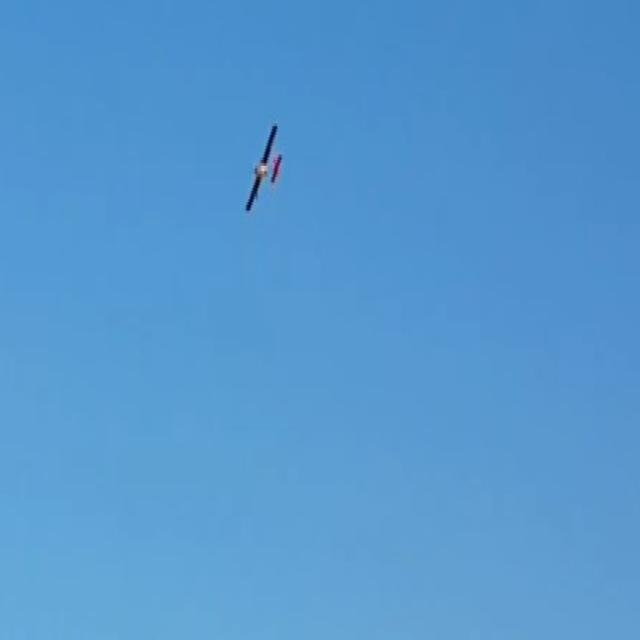iha: (239, 155, 277, 181)
